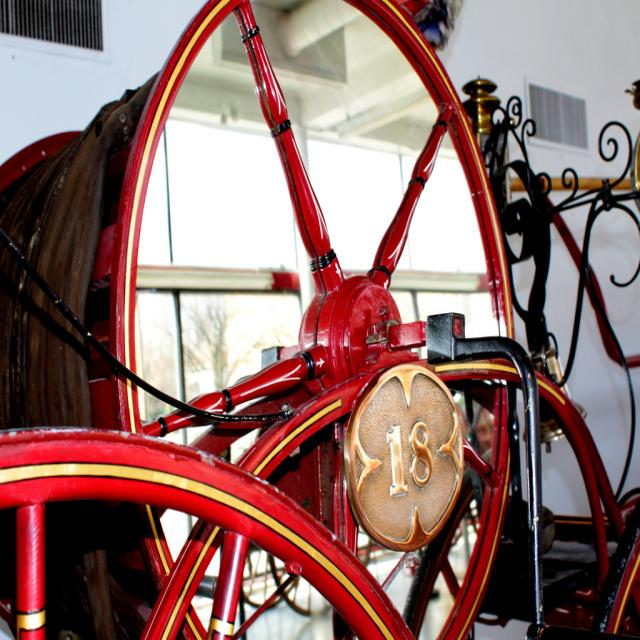no_fire: (86, 51, 590, 570)
